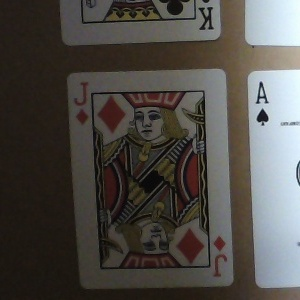card: (62, 67, 237, 289)
